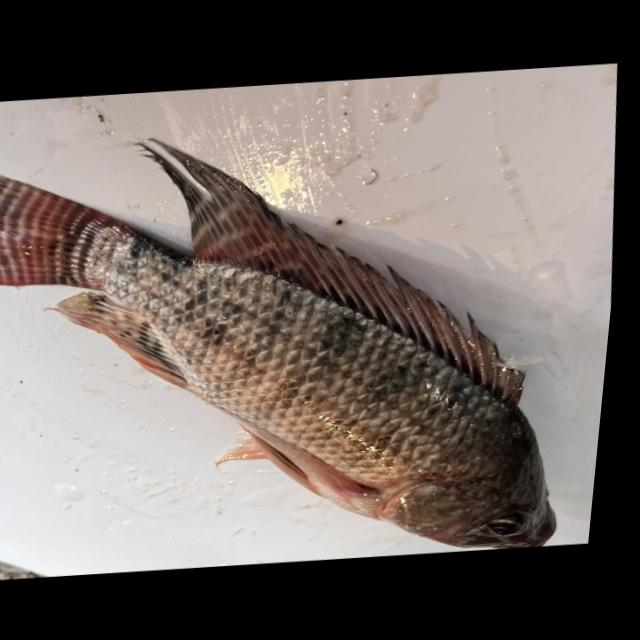Tilapia: (0, 107, 598, 587)
